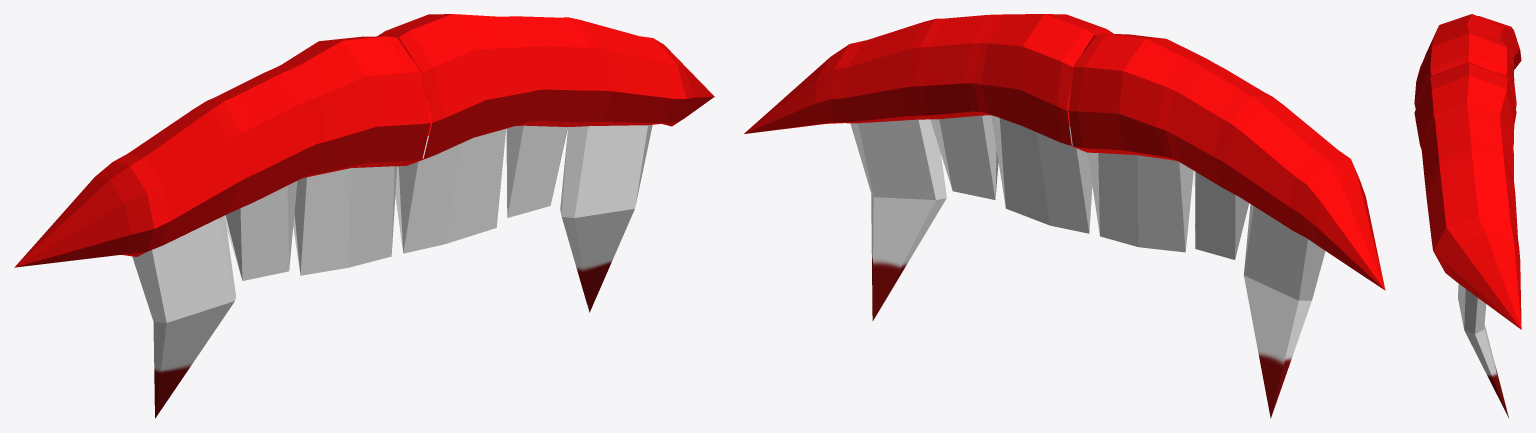
The model's file is Mouth.fbx.
The picture shows the model from 3 angles, left to right: view 1: azimuth 30°, elevation 25°; view 2: azimuth 150°, elevation 25°; view 3: azimuth 270°, elevation 25°; orthographic projection. The views are drawn at different scales.
Parts seen in each view (by area): view 1: Mouth; view 2: Mouth; view 3: Mouth.
Part boxes in pixels (x1,y1,x2,y2): Mouth: (14,14,714,418); Mouth: (744,14,1385,418); Mouth: (1414,14,1521,417).
Bounding box in the file's own units: 395 × 193 × 66.5.
